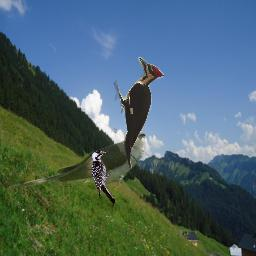Cuckoo: (7, 128, 146, 191)
Woodpecker: (113, 57, 164, 169), (91, 150, 115, 206)
